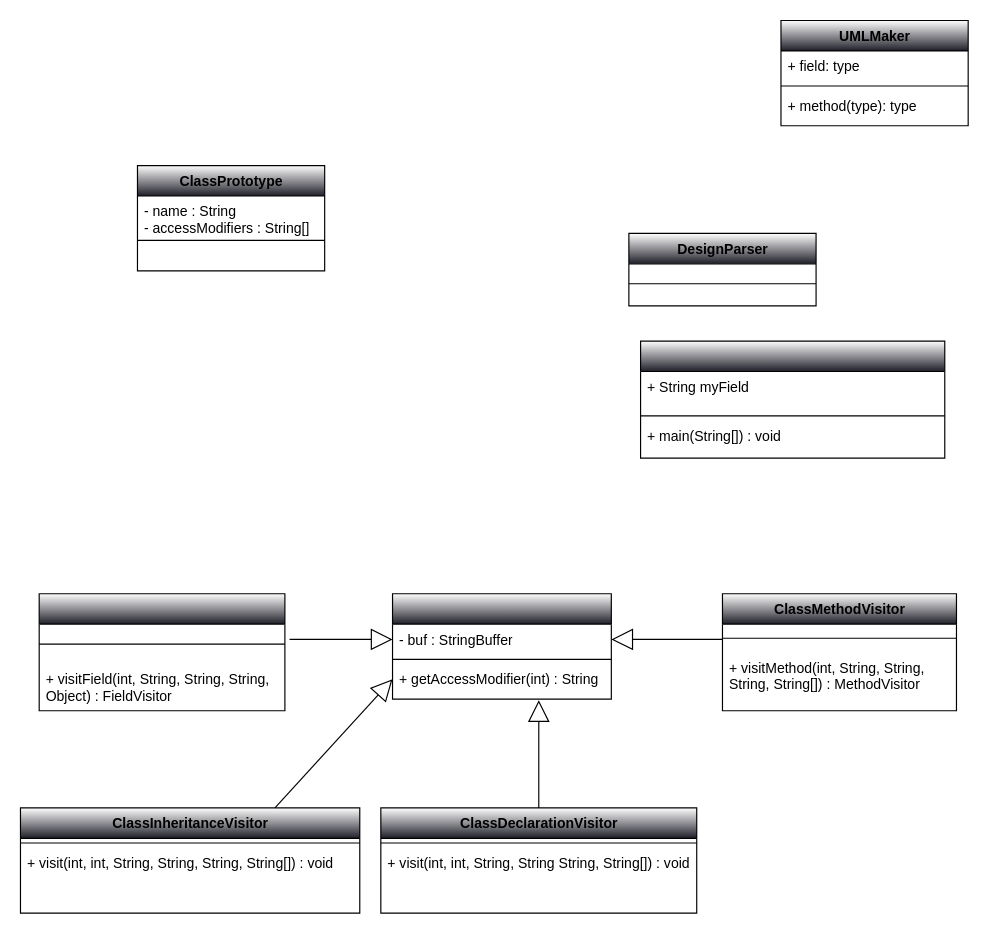
This 989x937 diagram has some shape labels left out. The box of each missing label's shape, as (x1, y1, x2, y2) in pixels:
ClassFieldVisitor: (38, 593, 285, 711)
ClassVisitorBuffered: (391, 593, 611, 699)
FirstASM: (639, 340, 945, 458)
